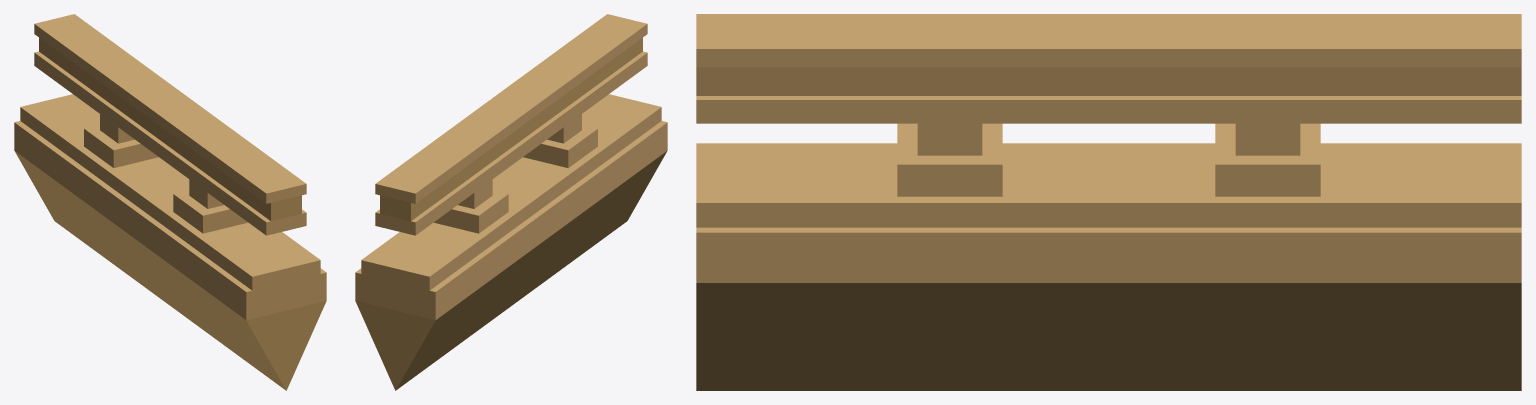
Rendered from ST_Env_Railing_02.fbx.
The picture shows the model from 3 angles, left to right: view 1: azimuth 30°, elevation 25°; view 2: azimuth 150°, elevation 25°; view 3: azimuth 270°, elevation 25°; orthographic projection. The views are drawn at different scales.
Parts seen in each view (by area): view 1: ST_Env_Railing_02; view 2: ST_Env_Railing_02; view 3: ST_Env_Railing_02.
Part boxes in pixels (left/top/right/bottom): ST_Env_Railing_02: left=14, top=14, right=326, bottom=390; ST_Env_Railing_02: left=355, top=14, right=667, bottom=390; ST_Env_Railing_02: left=696, top=14, right=1521, bottom=390.
Bounding box in the file's own units: 0.4 × 0.9615 × 2.
